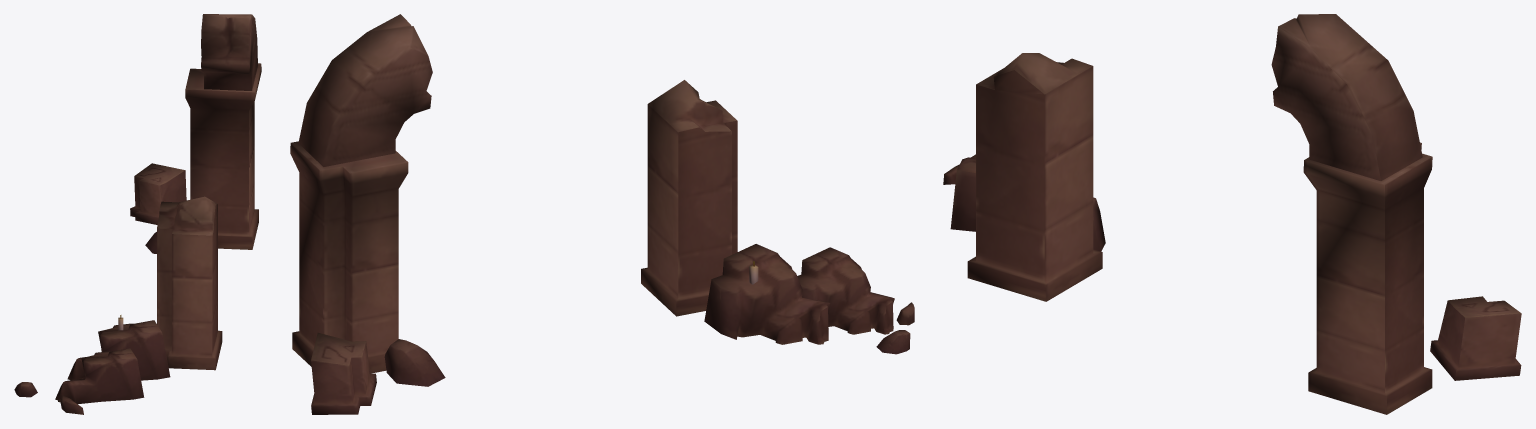
The model's file is boss3_wujian1_1.fbx.
3 views of the same model, side by side, from view 1: azimuth 30°, elevation 25°; view 2: azimuth 150°, elevation 25°; view 3: azimuth 270°, elevation 25° (orthographic). The views are drawn at different scales.
Visible parts, largest first — view 1: boss3_wujian1_1; view 2: boss3_wujian1_1; view 3: boss3_wujian1_1.
Boxes of the visible parts, x1,y1,x2,y2 form: boss3_wujian1_1: (14,14,261,414); boss3_wujian1_1: (290,14,914,414); boss3_wujian1_1: (943,14,1521,414).
Size of the model in its own units: 982 by 641 by 934.
